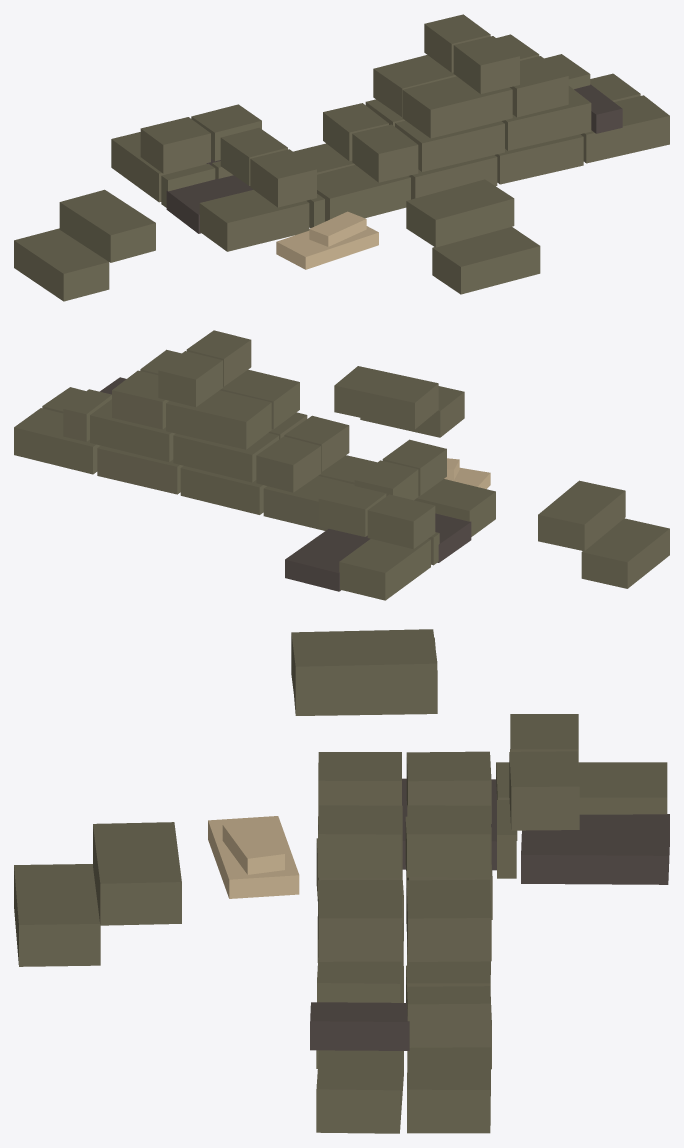
Rendered from SM_SacosRemate_v1_Talud_e1_Danado_LOD0.fbx.
The picture shows the model from 3 angles, top to bottom: view 1: azimuth 30°, elevation 25°; view 2: azimuth 150°, elevation 25°; view 3: azimuth 270°, elevation 25°; orthographic projection. The views are drawn at different scales.
Parts seen in each view (by area): view 1: SM_sacos_piezas_v25_LOD0; view 2: SM_sacos_piezas_v25_LOD0; view 3: SM_sacos_piezas_v25_LOD0.
Boxes of the visible parts, <box> form: SM_sacos_piezas_v25_LOD0: <box>14,14,669,301</box>; SM_sacos_piezas_v25_LOD0: <box>14,330,669,600</box>; SM_sacos_piezas_v25_LOD0: <box>14,629,669,1133</box>.
Bounding box in the file's own units: 6.09 × 1.18 × 3.7.
